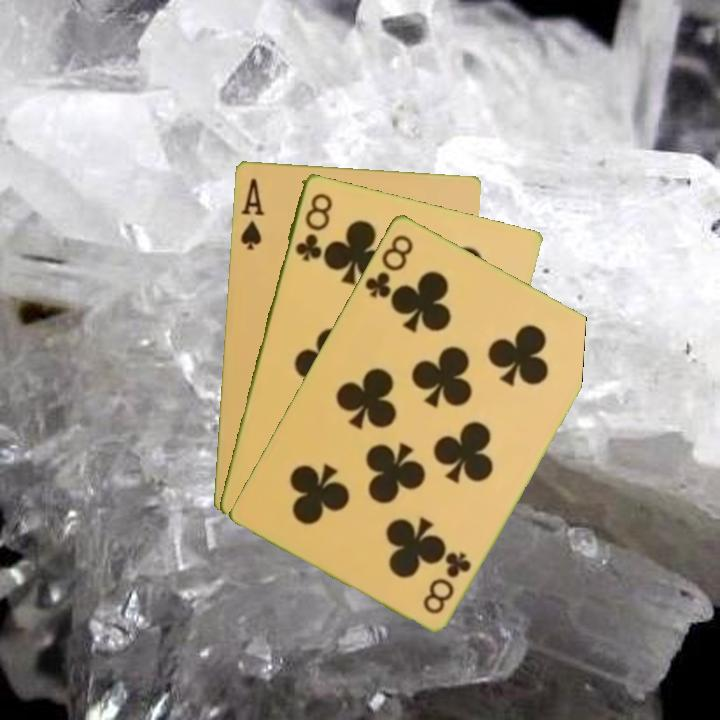8c: (361, 230, 416, 300), (419, 547, 474, 617), (291, 189, 335, 264)
As: (237, 174, 267, 252)
